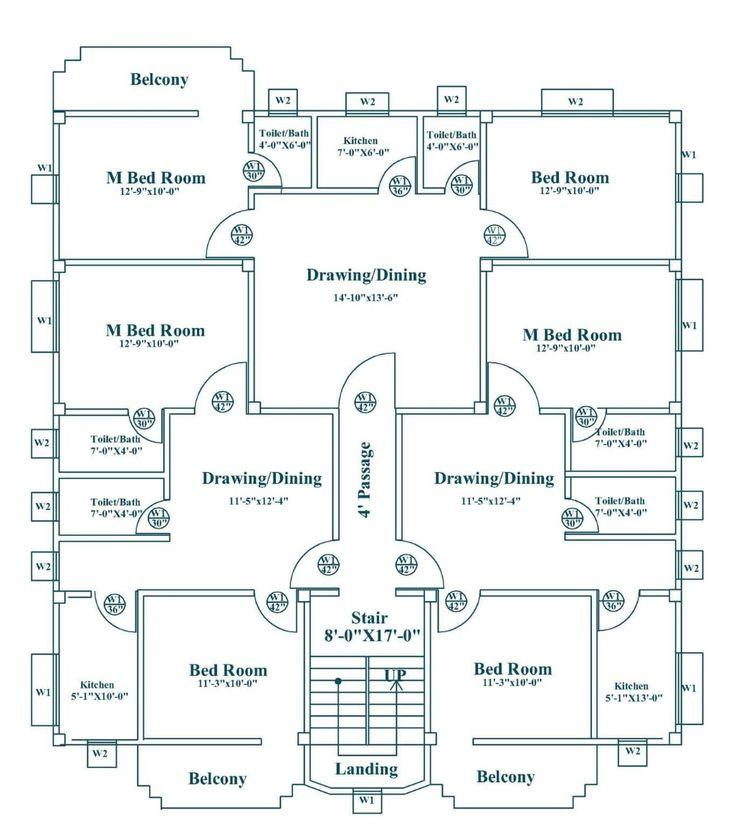Blueprint: (47, 100, 689, 754)
wall: (588, 593, 599, 741), (471, 736, 619, 747), (478, 587, 602, 598), (115, 737, 264, 746), (64, 259, 244, 266), (493, 258, 670, 265), (64, 109, 200, 118), (137, 595, 145, 739), (424, 601, 432, 733), (479, 271, 487, 402), (303, 601, 311, 732), (247, 271, 255, 402), (60, 470, 164, 480), (395, 413, 403, 541), (332, 414, 340, 541), (565, 533, 676, 542), (137, 589, 256, 597), (58, 534, 172, 542), (478, 122, 488, 210), (255, 187, 380, 194), (565, 470, 676, 477), (164, 407, 171, 501), (395, 407, 475, 415), (417, 116, 425, 195), (564, 414, 571, 498), (65, 407, 129, 416), (260, 408, 340, 415), (311, 117, 319, 187), (673, 599, 683, 654), (53, 603, 62, 655), (52, 352, 61, 403), (53, 203, 61, 259), (605, 407, 669, 414), (53, 123, 61, 176), (675, 201, 682, 259), (675, 350, 682, 402), (388, 110, 439, 117), (675, 123, 682, 174), (493, 110, 543, 117), (298, 110, 347, 117), (423, 744, 431, 784), (303, 745, 311, 785), (395, 587, 425, 597), (674, 518, 683, 550), (53, 457, 61, 492), (539, 407, 573, 415), (646, 736, 672, 746), (53, 520, 61, 552), (311, 587, 339, 596), (675, 456, 682, 492), (247, 122, 255, 153), (639, 589, 670, 597), (64, 590, 93, 598), (415, 187, 445, 194), (170, 407, 196, 415), (381, 787, 406, 795), (329, 787, 353, 795), (248, 187, 255, 209), (66, 739, 89, 745), (674, 723, 683, 736), (254, 110, 270, 117), (465, 110, 481, 117), (52, 414, 59, 430), (675, 414, 682, 430), (52, 579, 60, 591), (674, 579, 682, 590), (53, 272, 61, 282)
